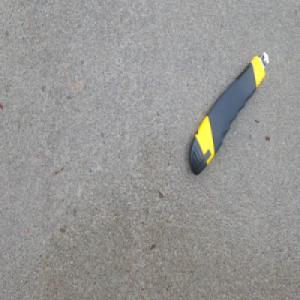Cutter: (188, 51, 270, 179)
